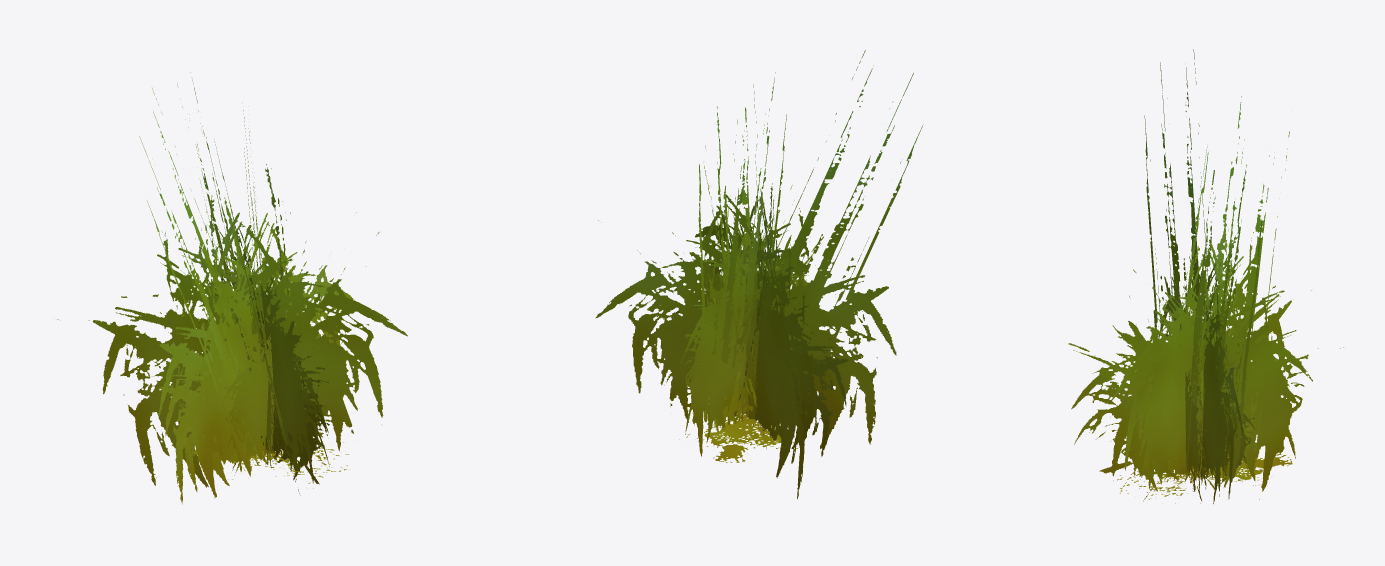
Rendered from grass30.fbx.
3 renders of one model, left to right at view 1: azimuth 30°, elevation 25°; view 2: azimuth 150°, elevation 25°; view 3: azimuth 270°, elevation 25°, orthographic. The views are drawn at different scales.
Visible parts, largest first — view 1: grass2_BAKED; view 2: grass2_BAKED; view 3: grass2_BAKED.
Part boxes in pixels (box(x1,y1,x2,y2)): grass2_BAKED: box(57, 72, 407, 504); grass2_BAKED: box(595, 50, 923, 498); grass2_BAKED: box(1068, 49, 1343, 503).
Bounding box in the file's own units: 39.97 × 44.88 × 60.89.
